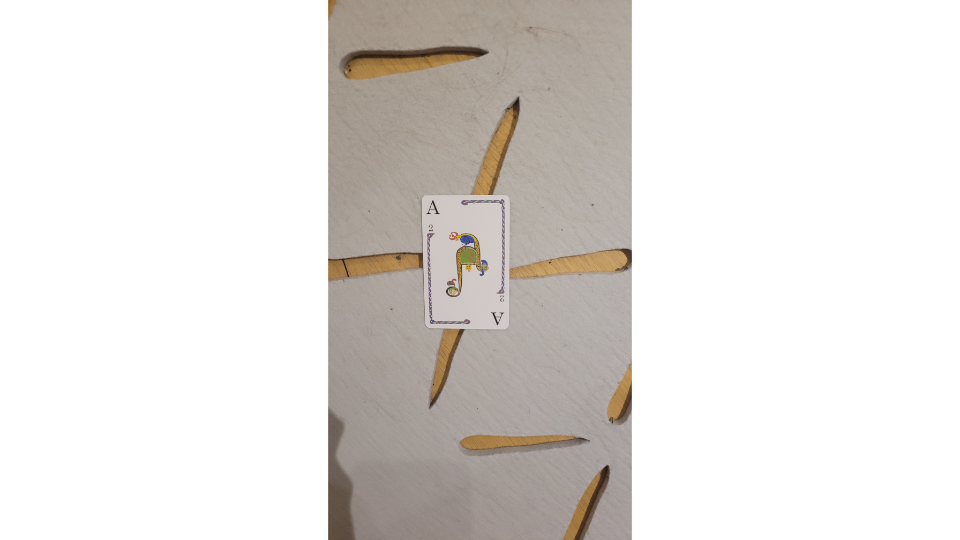A: (417, 191, 517, 334)
